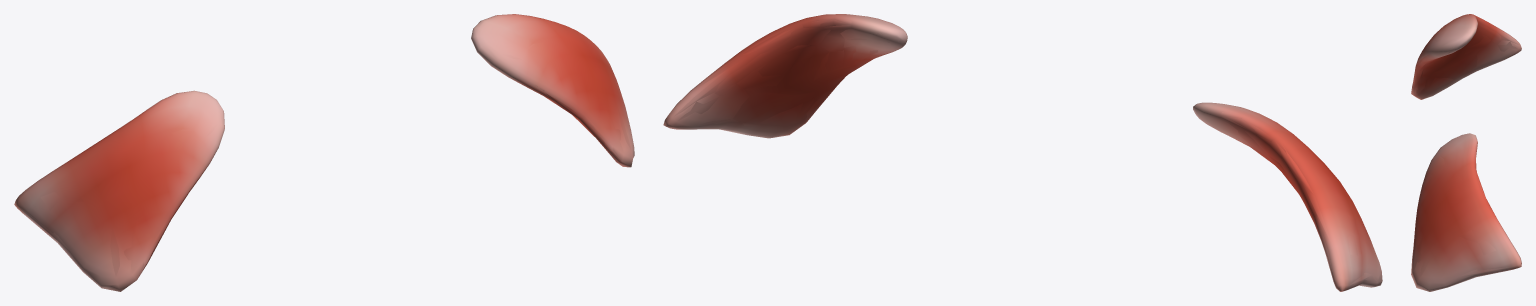
The model's file is Levator palpebrae.fbx.
3 renders of one model, left to right at view 1: azimuth 30°, elevation 25°; view 2: azimuth 150°, elevation 25°; view 3: azimuth 270°, elevation 25°, orthographic. The views are drawn at different scales.
Visible parts, largest first — view 1: Levator palpebrae, Levator palpebrae low; view 2: Levator palpebrae, Levator palpebrae low; view 3: Levator palpebrae, Levator palpebrae low.
Part boxes in pixels (left/top/right/bottom): Levator palpebrae: left=14, top=14, right=634, bottom=291; Levator palpebrae low: left=23, top=14, right=631, bottom=291; Levator palpebrae: left=663, top=14, right=1382, bottom=291; Levator palpebrae low: left=663, top=15, right=1380, bottom=290; Levator palpebrae: left=1411, top=14, right=1521, bottom=291; Levator palpebrae low: left=1411, top=14, right=1521, bottom=291.
Bounding box in the file's own units: 19.35 × 4.7 × 4.15.
